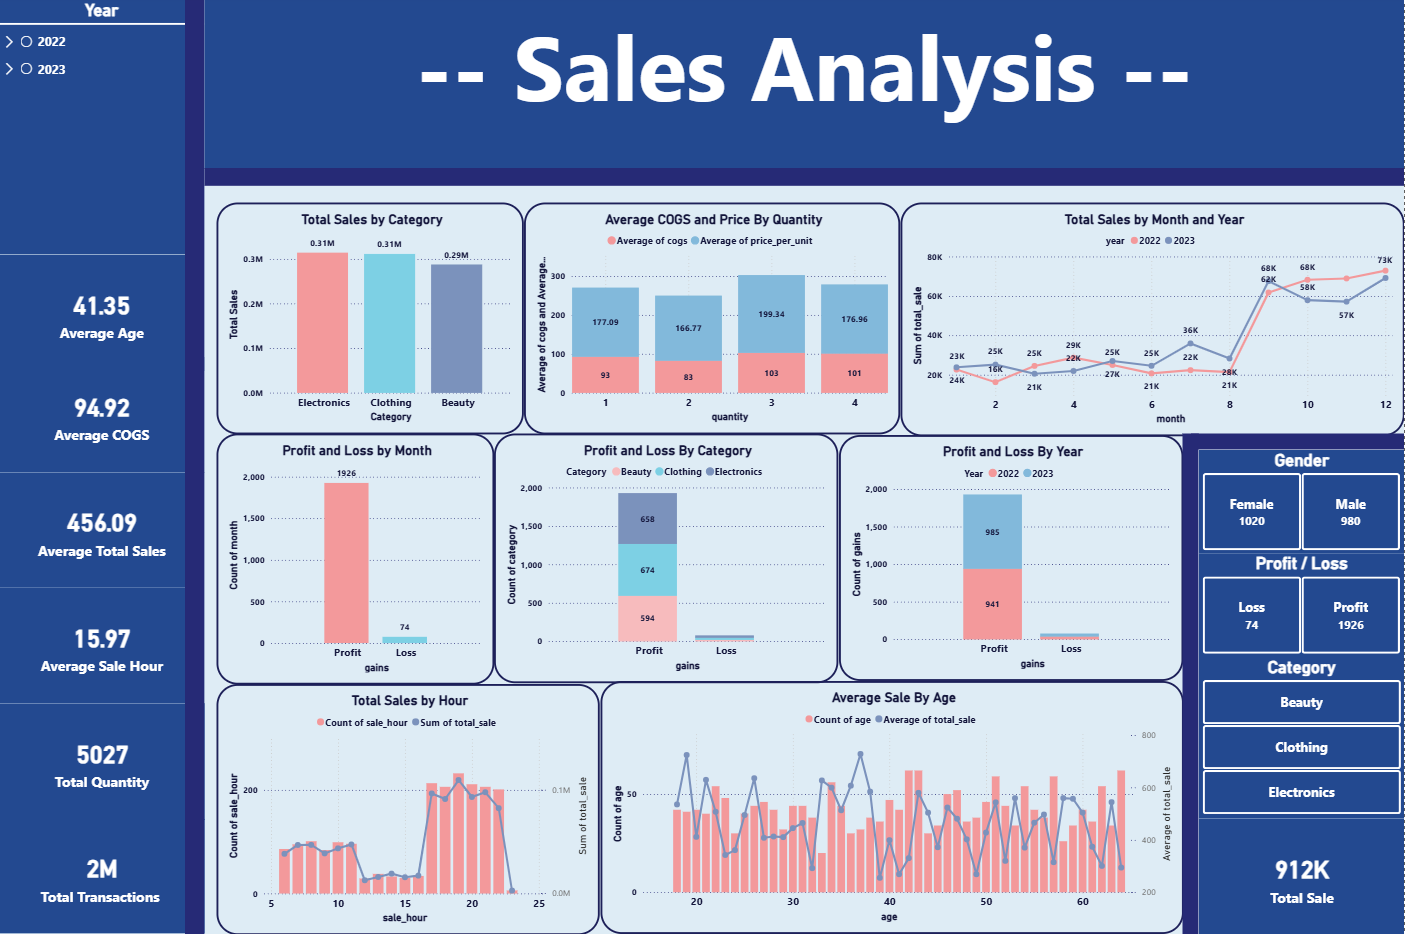

The page's visual inventory and layout, read from the dashboard file:
{"tool":"powerbi","page":{"name":"Page 2","canvas":[2000,1329],"ordinal":0},"visuals":[{"type":"listSlicer","title":"Year","fields":{"Values":["SQL - Retail Sales Analysis_utf.sale_date.Variation.Date Hierarchy.Year","SQL - Retail Sales Analysis_utf.sale_date.Variation.Date Hierarchy.Quarter","SQL - Retail Sales Analysis_utf.sale_date.Variation.Date Hierarchy.Month","SQL - Retail Sales Analysis_utf.sale_date.Variation.Date Hierarchy.Day"]},"box":[0,0,292,362],"z":0},{"type":"card","fields":{"Values":["Avg(SQL - Retail Sales Analysis_utf.age)"]},"box":[0,362,292,164],"z":1000},{"type":"card","fields":{"Values":["Avg(SQL - Retail Sales Analysis_utf.cogs)"]},"box":[0,508,292,164],"z":2000},{"type":"card","fields":{"Values":["Avg(SQL - Retail Sales Analysis_utf.total_sale)"]},"box":[0,672,292,164],"z":3000},{"type":"card","fields":{"Values":["Avg(SQL - Retail Sales Analysis_utf.sale_hour)"]},"box":[0,836,292,164],"z":4000},{"type":"card","fields":{"Values":["Sum(SQL - Retail Sales Analysis_utf.total_sale)"]},"box":[1707.5,1165,292.5,165],"z":5000},{"type":"card","fields":{"Values":["Sum(SQL - Retail Sales Analysis_utf.quantity)"]},"box":[0,1000,292.5,165],"z":6000},{"type":"card","fields":{"Values":["Sum(SQL - Retail Sales Analysis_utf.transactions_id)"]},"box":[0,1165,292.5,162.5],"z":7000},{"type":"advancedSlicerVisual","title":"Gender","fields":{"Values":["SQL - Retail Sales Analysis_utf.gender"],"Label":["CountNonNull(SQL - Retail Sales Analysis_utf.gender)"]},"box":[1707.5,640,292.5,147.5],"z":8000},{"type":"advancedSlicerVisual","title":"Profit / Loss","fields":{"Values":["SQL - Retail Sales Analysis_utf.gains"],"Label":["CountNonNull(SQL - Retail Sales Analysis_utf.gains)"]},"box":[1707.5,787.5,292.5,147.5],"z":9000},{"type":"advancedSlicerVisual","title":"Category","fields":{"Values":["SQL - Retail Sales Analysis_utf.category"]},"box":[1707.5,935,292.5,230],"z":10000},{"type":"columnChart","fields":{"Y":["Sum(SQL - Retail Sales Analysis_utf.total_sale)"],"Category":["SQL - Retail Sales Analysis_utf.category"]},"box":[310,287.5,437.5,330],"z":11000},{"type":"columnChart","title":"Profit and Loss by Month","fields":{"Y":["CountNonNull(SQL - Retail Sales Analysis_utf.month)"],"Category":["SQL - Retail Sales Analysis_utf.gains"]},"box":[310,617.5,395,357.5],"z":12000},{"type":"columnChart","title":"Profit and Loss By Category","fields":{"Series":["SQL - Retail Sales Analysis_utf.category"],"Category":["SQL - Retail Sales Analysis_utf.gains"],"Y":["CountNonNull(SQL - Retail Sales Analysis_utf.category)"]},"box":[705,617.5,490,355],"z":13000},{"type":"columnChart","title":"Profit and Loss By Year","fields":{"Category":["SQL - Retail Sales Analysis_utf.gains"],"Series":["SQL - Retail Sales Analysis_utf.year"],"Y":["CountNonNull(SQL - Retail Sales Analysis_utf.gains)"]},"box":[1195,620,490,350],"z":14000},{"type":"columnChart","title":"Average COGS and Price By Quantity","fields":{"Category":["SQL - Retail Sales Analysis_utf.quantity"],"Y":["Avg(SQL - Retail Sales Analysis_utf.cogs)","Avg(SQL - Retail Sales Analysis_utf.price_per_unit)"]},"box":[747.5,287.5,535,330],"z":15000},{"type":"lineChart","title":"Total Sales by Month and Year","fields":{"Series":["SQL - Retail Sales Analysis_utf.year"],"Category":["SQL - Retail Sales Analysis_utf.month"],"Y":["Sum(SQL - Retail Sales Analysis_utf.total_sale)"]},"box":[1282.5,287.5,717.5,332.5],"z":16000},{"type":"lineStackedColumnComboChart","title":"Total Sales by Hour","fields":{"Y2":["Sum(SQL - Retail Sales Analysis_utf.total_sale)"],"Category":["SQL - Retail Sales Analysis_utf.sale_hour"],"Y":["CountNonNull(SQL - Retail Sales Analysis_utf.sale_hour)"]},"box":[310,972.5,545,357.5],"z":17000},{"type":"lineStackedColumnComboChart","title":"Average Sale By Age","fields":{"Y2":["Avg(SQL - Retail Sales Analysis_utf.total_sale)"],"Category":["SQL - Retail Sales Analysis_utf.age"],"Y":["CountNonNull(SQL - Retail Sales Analysis_utf.age)"]},"box":[855,970,830,360],"z":18000},{"type":"textbox","box":[292.5,0,1707.5,240],"z":19000},{"type":"shape","box":[292.5,240,1707.5,25],"z":20000},{"type":"shape","box":[265,0,27.5,1330],"z":21000},{"type":"shape","box":[1685,617.5,22.5,712.5],"z":22000},{"type":"shape","box":[1697.5,617.5,302.5,22.5],"z":23000}]}

Visuals, with their boxes in screenshot pixels (x1, y1, x2, y2), scaled from the page's 2000x1329 canvas onto the 1405x934 screenshot:
"Year" listSlicer: 0,0,205,254
card - Avg(SQL - Retail Sales Analysis_utf.age): 0,254,205,370
card - Avg(SQL - Retail Sales Analysis_utf.cogs): 0,357,205,472
card - Avg(SQL - Retail Sales Analysis_utf.total_sale): 0,472,205,588
card - Avg(SQL - Retail Sales Analysis_utf.sale_hour): 0,588,205,703
card - Sum(SQL - Retail Sales Analysis_utf.total_sale): 1200,819,1404,933
card - Sum(SQL - Retail Sales Analysis_utf.quantity): 0,703,205,819
card - Sum(SQL - Retail Sales Analysis_utf.transactions_id): 0,819,205,933
"Gender" advancedSlicerVisual: 1200,450,1404,553
"Profit / Loss" advancedSlicerVisual: 1200,553,1404,657
"Category" advancedSlicerVisual: 1200,657,1404,819
columnChart - Sum(SQL - Retail Sales Analysis_utf.total_sale) x SQL - Retail Sales Analysis_utf.category: 218,202,525,434
"Profit and Loss by Month" columnChart: 218,434,495,685
"Profit and Loss By Category" columnChart: 495,434,839,683
"Profit and Loss By Year" columnChart: 839,436,1184,682
"Average COGS and Price By Quantity" columnChart: 525,202,901,434
"Total Sales by Month and Year" lineChart: 901,202,1404,436
"Total Sales by Hour" lineStackedColumnComboChart: 218,683,601,933
"Average Sale By Age" lineStackedColumnComboChart: 601,682,1184,933
textbox: 205,0,1404,169
shape: 205,169,1404,186
shape: 186,0,205,933
shape: 1184,434,1200,933
shape: 1192,434,1404,450
